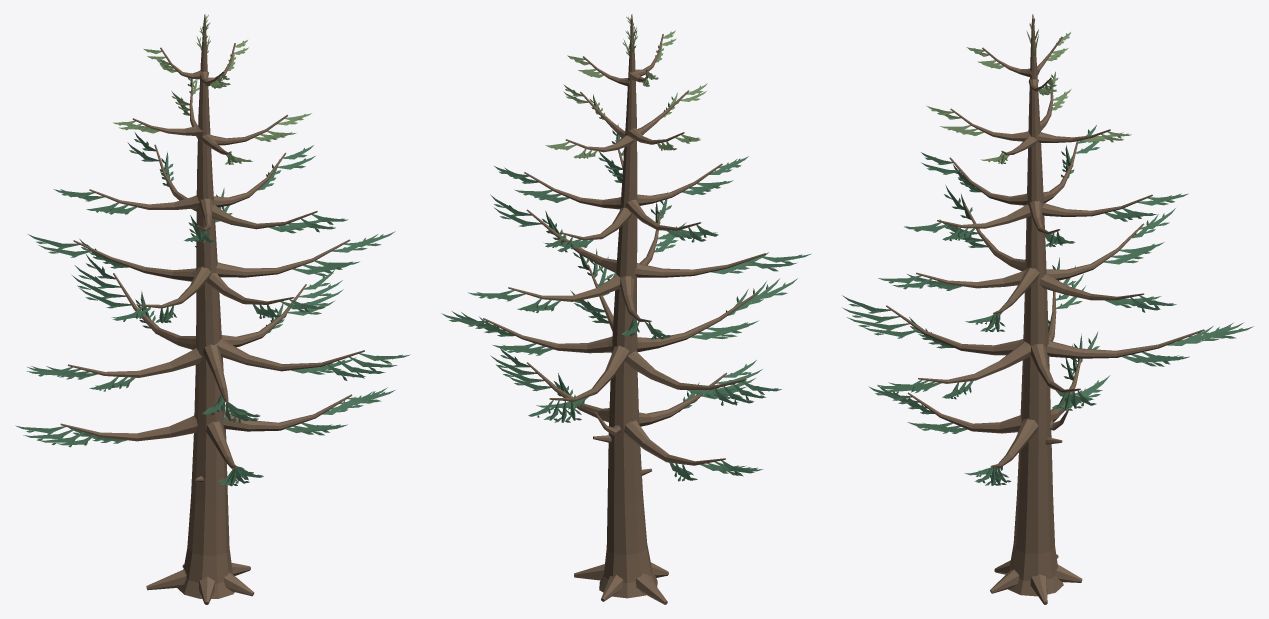
File: conifer-tree.glb
The picture shows the model from 3 angles, left to right: view 1: azimuth 30°, elevation 25°; view 2: azimuth 150°, elevation 25°; view 3: azimuth 270°, elevation 25°; orthographic projection.
Visible parts, largest first — view 1: Conifer | editable woody axis boughs and collars, Conifer | clustered narrow needle-bearing shoots; view 2: Conifer | editable woody axis boughs and collars, Conifer | clustered narrow needle-bearing shoots; view 3: Conifer | editable woody axis boughs and collars, Conifer | clustered narrow needle-bearing shoots.
Boxes of the visible parts, left/top/right/bottom form: Conifer | editable woody axis boughs and collars: left=60, top=14, right=364, bottom=604; Conifer | clustered narrow needle-bearing shoots: left=15, top=14, right=410, bottom=486; Conifer | editable woody axis boughs and collars: left=483, top=14, right=765, bottom=604; Conifer | clustered narrow needle-bearing shoots: left=441, top=16, right=811, bottom=481; Conifer | editable woody axis boughs and collars: left=886, top=14, right=1204, bottom=604; Conifer | clustered narrow needle-bearing shoots: left=842, top=18, right=1253, bottom=485.
Size of the model in its own units: 4.26 by 7.04 by 4.64.
